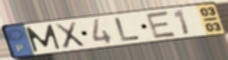1: (172, 8, 192, 36)
4: (91, 17, 115, 46)
E: (144, 10, 179, 40)
L: (113, 16, 143, 42)
M: (24, 24, 62, 53)
X: (53, 20, 88, 51)
